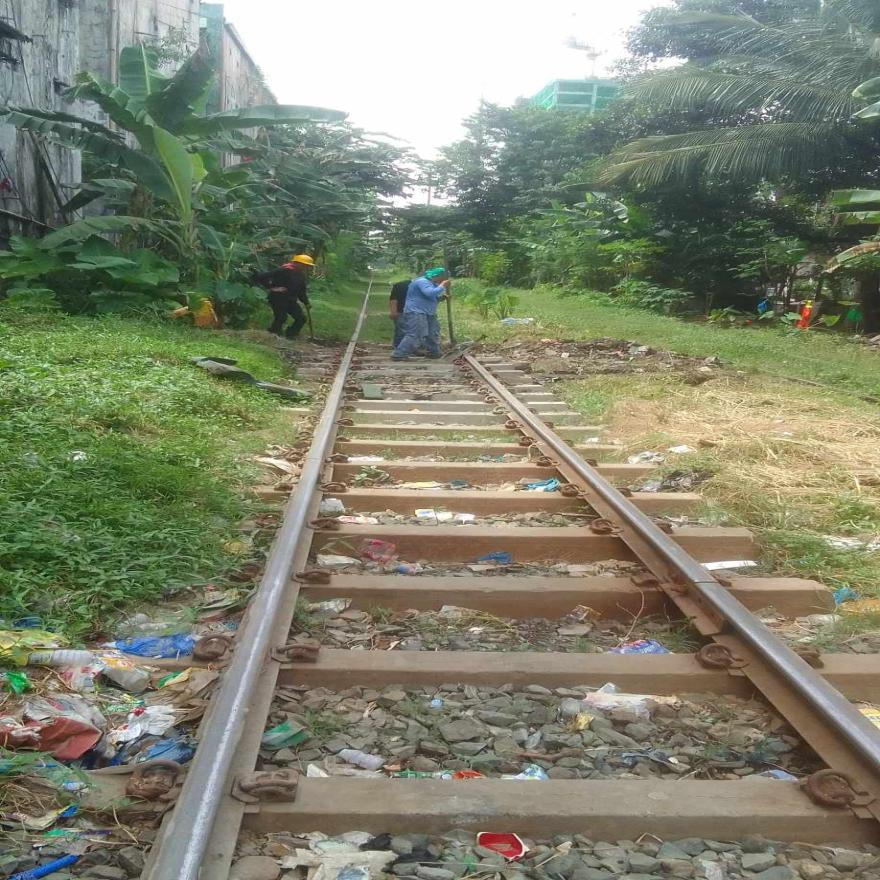railway-gap: (650, 556, 753, 610)
